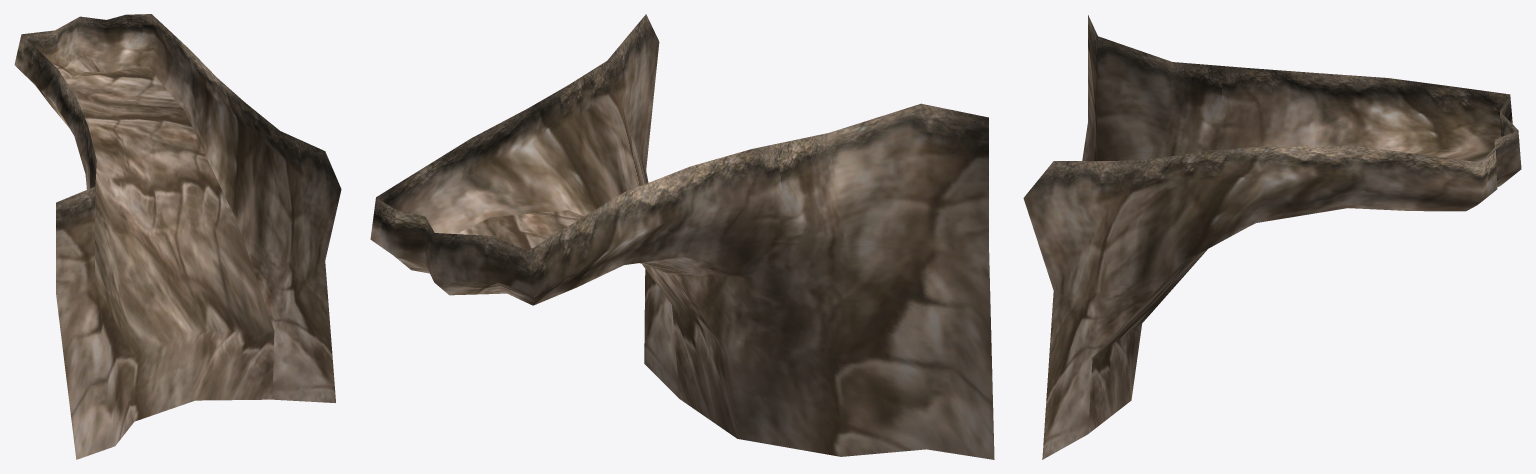
Rendered from OVERHILL_A_01_ROCK_FACE_22.fbx.
3 views of the same model, side by side, from view 1: azimuth 30°, elevation 25°; view 2: azimuth 150°, elevation 25°; view 3: azimuth 270°, elevation 25° (orthographic). The views are drawn at different scales.
Visible parts, largest first — view 1: OVERHILL_A_01_ROCK_FACE_22; view 2: OVERHILL_A_01_ROCK_FACE_22; view 3: OVERHILL_A_01_ROCK_FACE_22.
Boxes of the visible parts, x1=… form: OVERHILL_A_01_ROCK_FACE_22: x1=14, y1=14, x2=341, y2=459; OVERHILL_A_01_ROCK_FACE_22: x1=370, y1=14, x2=994, y2=459; OVERHILL_A_01_ROCK_FACE_22: x1=1023, y1=15, x2=1521, y2=459.
Bounding box in the file's own units: 25883 × 24126 × 35498.
Materials: 2 (2 with a texture image).
